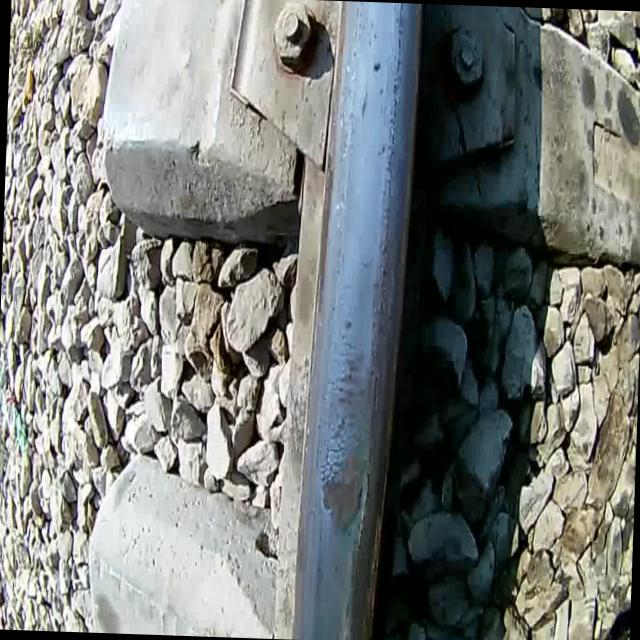Cracks: (320, 438, 346, 488), (353, 464, 373, 519)
Squats: (314, 308, 380, 542)
